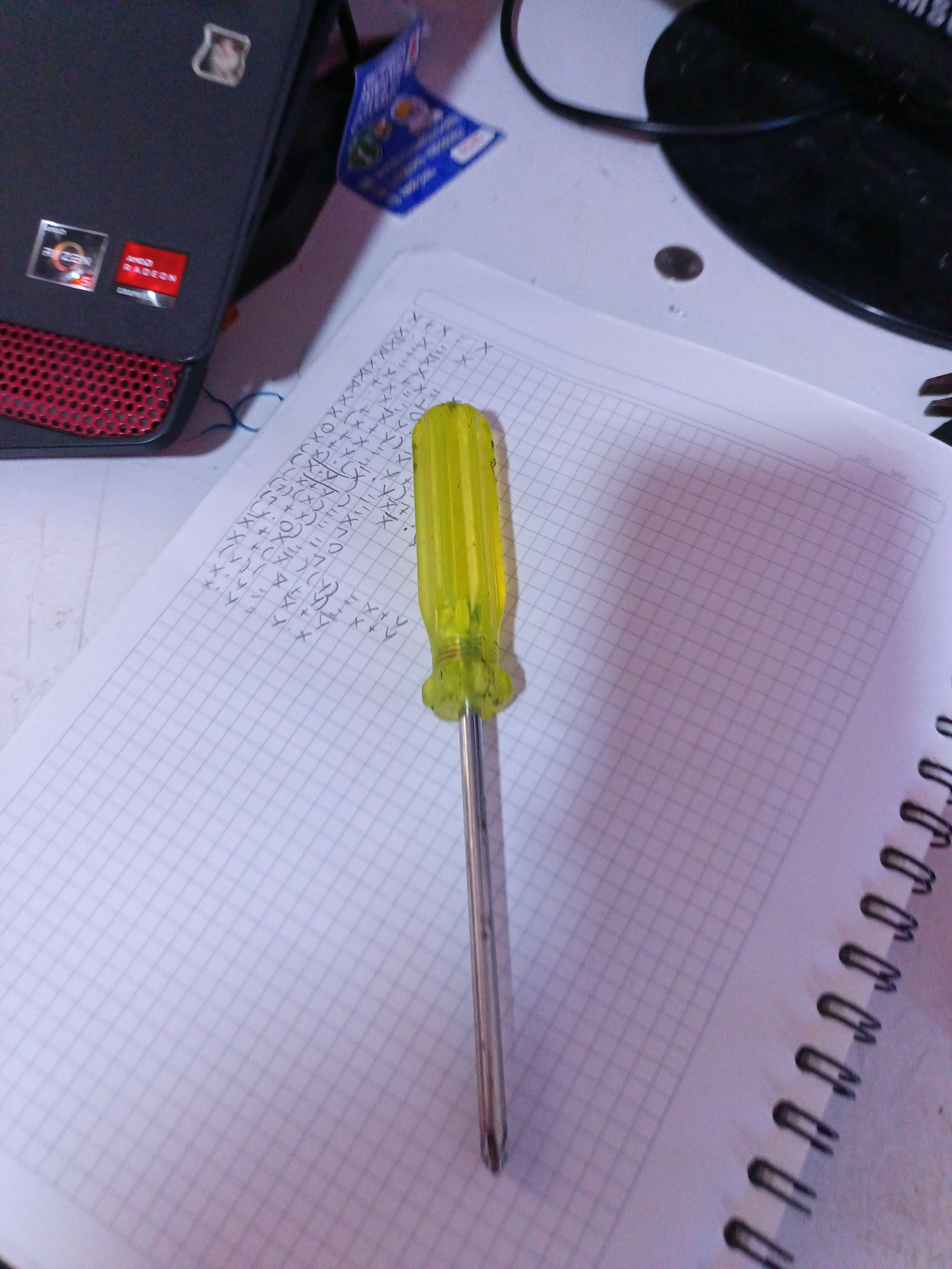Destornillador: (413, 402, 512, 1172)
